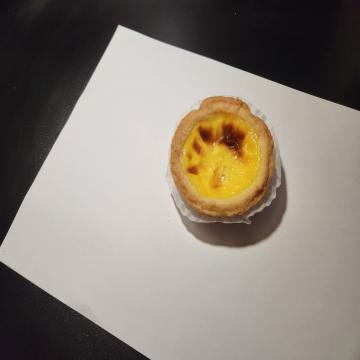EggTart: (169, 94, 273, 219)
